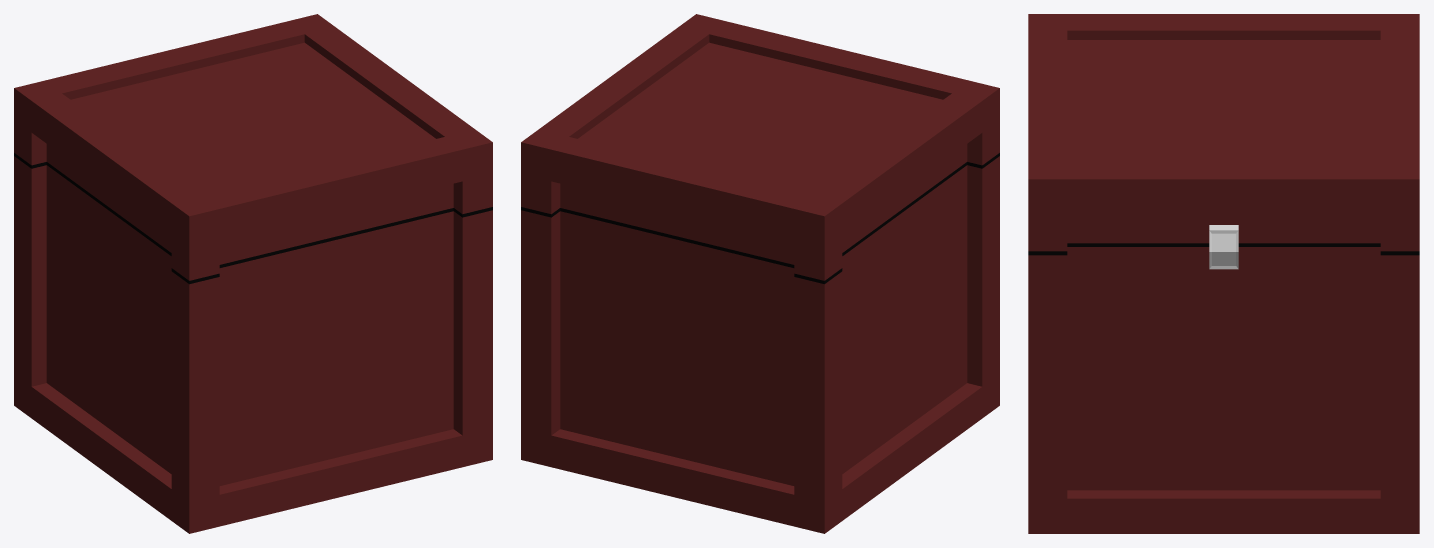
File: ItemBox_Red.fbx
3 renders of one model, left to right at view 1: azimuth 30°, elevation 25°; view 2: azimuth 150°, elevation 25°; view 3: azimuth 270°, elevation 25°, orthographic. The views are drawn at different scales.
Visible parts, largest first — view 1: Cube; view 2: Cube; view 3: Cube, Cube.001.
Part boxes in pixels (bbox=[...]): Cube: bbox=[14, 14, 492, 533]; Cube: bbox=[521, 14, 999, 533]; Cube: bbox=[1028, 14, 1419, 533]; Cube.001: bbox=[1209, 225, 1238, 269].
Size of the model in its own units: 200 by 200 by 200.
